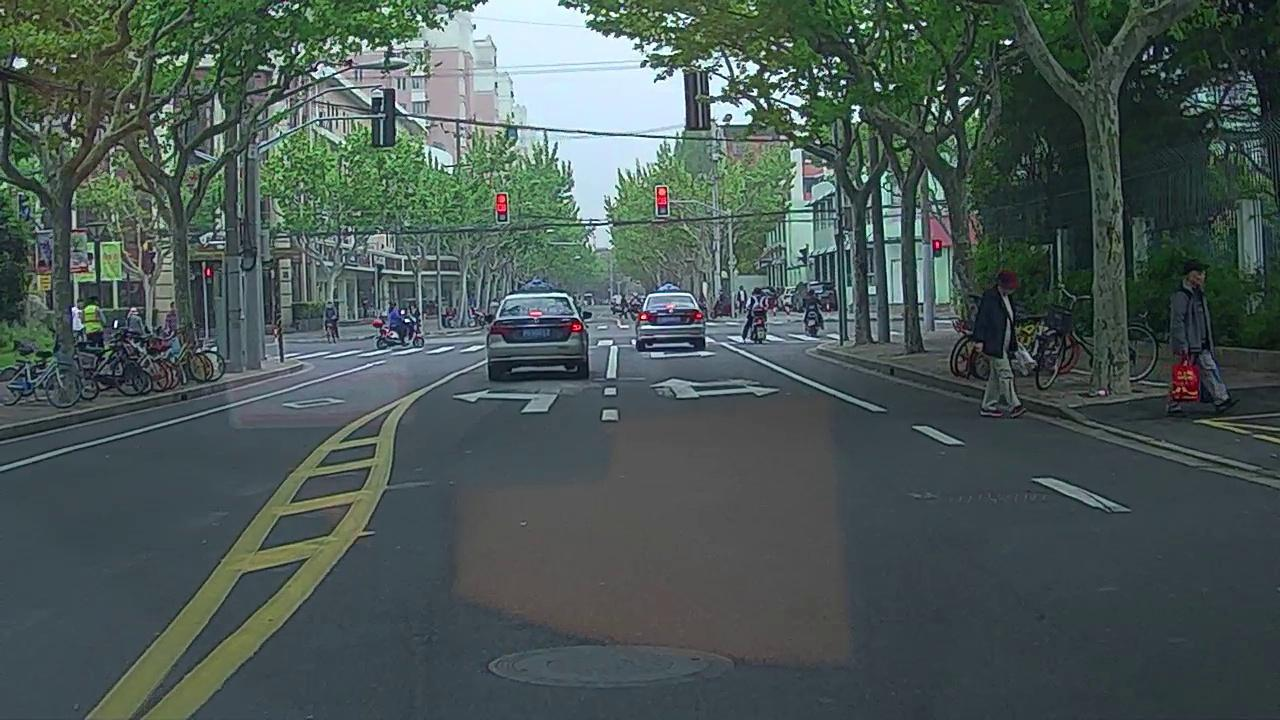traffic_light: (497, 193, 508, 223), (657, 187, 668, 216)
